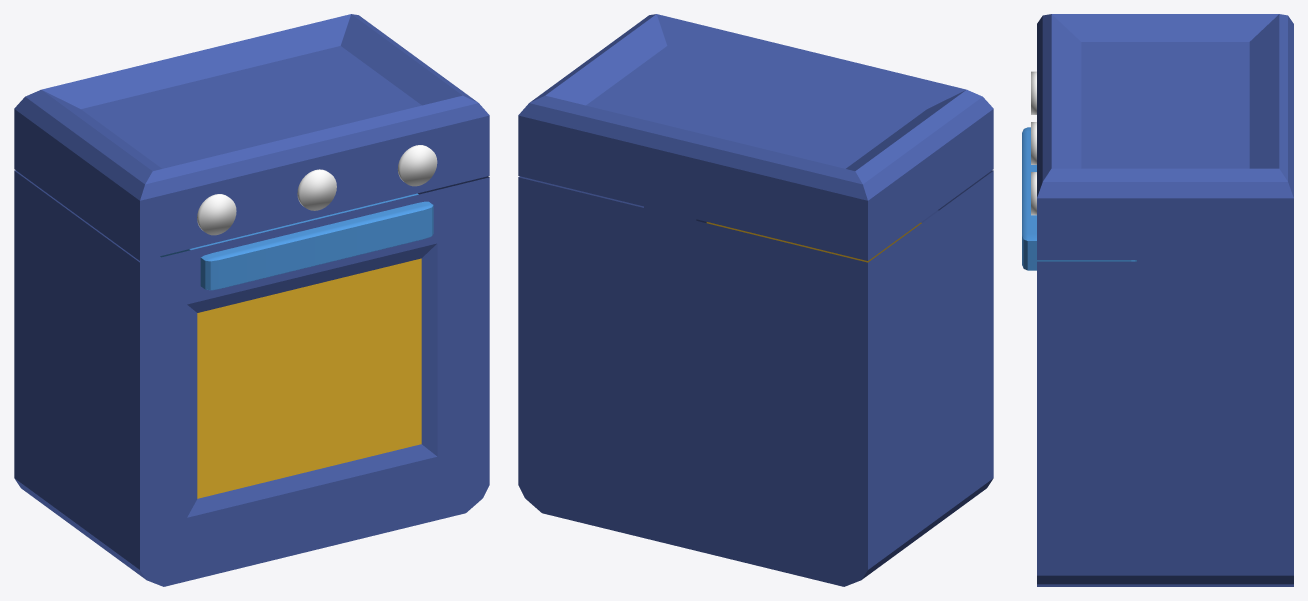
The model's file is piekarnik_on.gltf.
3 views of the same model, side by side, from view 1: azimuth 30°, elevation 25°; view 2: azimuth 150°, elevation 25°; view 3: azimuth 270°, elevation 25° (orthographic). The views are drawn at different scales.
Visible parts, largest first — view 1: Cube, Cube.001, Circle.001, Circle, Circle.002; view 2: Cube; view 3: Cube, Cube.001.
Boxes of the visible parts, left/top/right/bottom form: Cube: left=14, top=14, right=489, bottom=586; Cube.001: left=160, top=193, right=433, bottom=290; Circle.001: left=297, top=169, right=336, bottom=210; Circle: left=197, top=194, right=236, bottom=235; Circle.002: left=397, top=145, right=437, bottom=186; Cube: left=518, top=14, right=993, bottom=586; Cube: left=1037, top=14, right=1293, bottom=586; Cube.001: left=1022, top=127, right=1136, bottom=270.
Size of the model in its own units: 3.21 by 3.61 by 2.12.
1 material, 1 textured.
